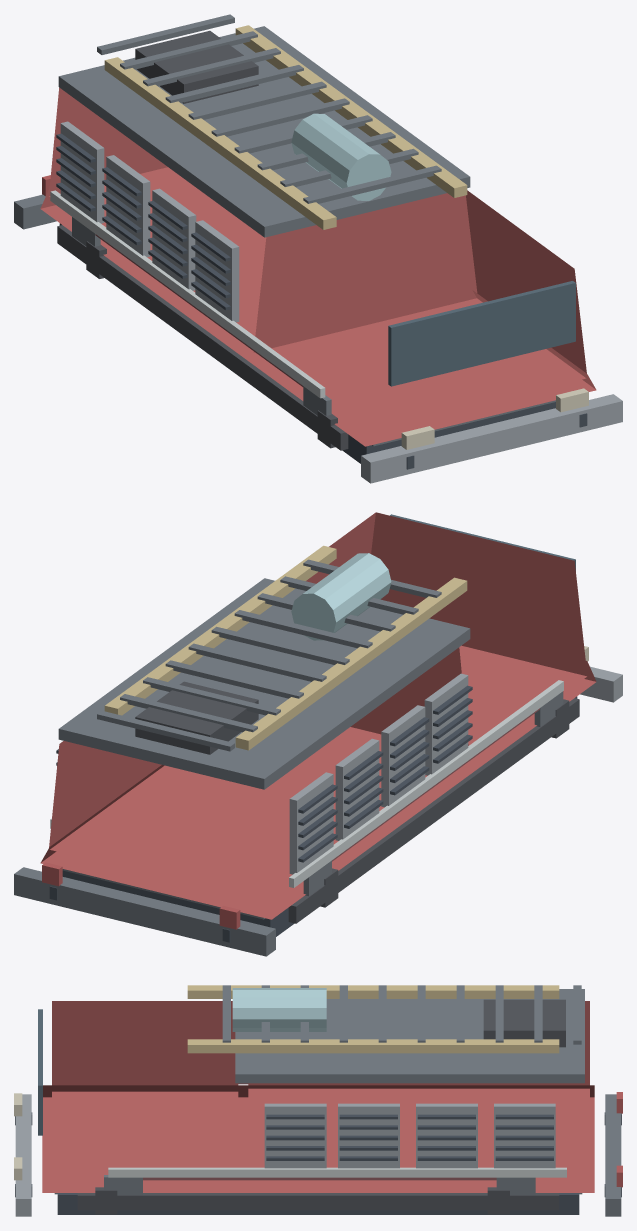
The model's file is inferno.glb.
3 views of the same model, one above another, from view 1: azimuth 30°, elevation 25°; view 2: azimuth 150°, elevation 25°; view 3: azimuth 270°, elevation 25° (orthographic). The views are drawn at different scales.
Parts seen in each view (by area): view 1: inferno_batch01, inferno_batch02, inferno_batch05, inferno_batch08, inferno_batch03, inferno_batch10, inferno_batch00, inferno_batch11, inferno_batch09, inferno_batch06; view 2: inferno_batch01, inferno_batch02, inferno_batch03, inferno_batch05, inferno_batch10, inferno_batch00, inferno_batch11, inferno_batch09, inferno_batch07; view 3: inferno_batch01, inferno_batch02, inferno_batch05, inferno_batch03, inferno_batch00, inferno_batch10, inferno_batch09, inferno_batch11, inferno_batch04, inferno_batch08, inferno_batch06.
Boxes of the visible parts, left/top/right/bottom form: inferno_batch01: left=40, top=87, right=596, bottom=446; inferno_batch02: left=14, top=14, right=555, bottom=446; inferno_batch05: left=60, top=121, right=622, bottom=483; inferno_batch08: left=388, top=281, right=575, bottom=386; inferno_batch03: left=57, top=30, right=348, bottom=450; inferno_batch10: left=104, top=25, right=467, bottom=229; inferno_batch00: left=56, top=133, right=587, bottom=469; inferno_batch11: left=291, top=113, right=391, bottom=200; inferno_batch09: left=50, top=190, right=325, bottom=398; inferno_batch06: left=401, top=388, right=588, bottom=449; inferno_batch01: left=40, top=512, right=596, bottom=919; inferno_batch02: left=14, top=559, right=563, bottom=956; inferno_batch03: left=135, top=681, right=579, bottom=923; inferno_batch05: left=289, top=666, right=622, bottom=874; inferno_batch10: left=104, top=545, right=467, bottom=750; inferno_batch00: left=49, top=685, right=577, bottom=942; inferno_batch11: left=291, top=553, right=391, bottom=640; inferno_batch09: left=50, top=680, right=563, bottom=887; inferno_batch07: left=42, top=862, right=240, bottom=929; inferno_batch01: left=42, top=1001, right=594, bottom=1192; inferno_batch02: left=54, top=985, right=621, bottom=1216; inferno_batch05: left=15, top=1094, right=555, bottom=1216; inferno_batch03: left=77, top=999, right=565, bottom=1214; inferno_batch00: left=15, top=1112, right=621, bottom=1214; inferno_batch10: left=187, top=985, right=559, bottom=1053; inferno_batch09: left=108, top=1167, right=566, bottom=1177; inferno_batch11: left=232, top=988, right=326, bottom=1031; inferno_batch04: left=143, top=1083, right=496, bottom=1180; inferno_batch08: left=38, top=1009, right=42, bottom=1135; inferno_batch06: left=14, top=1093, right=22, bottom=1180.
Size of the model in its own units: 5.4 by 4.36 by 13.28.
